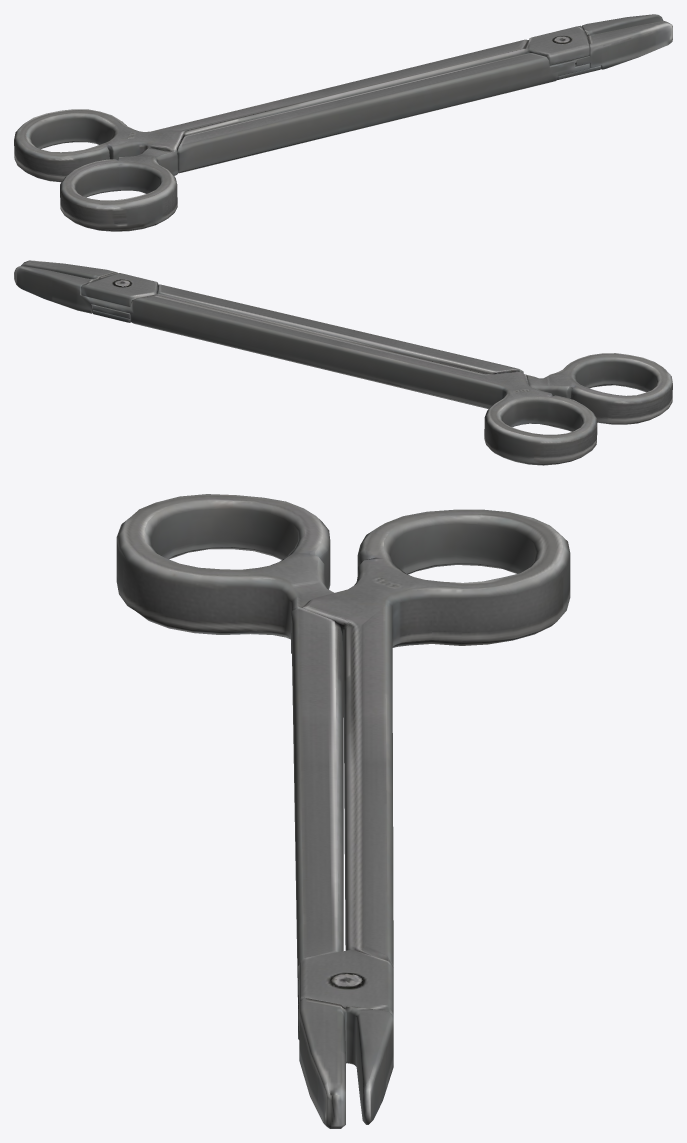
Rendered from needle_holder.glb.
3 views of the same model, one above another, from view 1: azimuth 30°, elevation 25°; view 2: azimuth 150°, elevation 25°; view 3: azimuth 270°, elevation 25° (orthographic). The views are drawn at different scales.
Parts seen in each view (by area): view 1: needle_holder; view 2: needle_holder; view 3: needle_holder.
Boxes of the visible parts, <box> form: needle_holder: <box>14,14,672,231</box>; needle_holder: <box>14,260,672,465</box>; needle_holder: <box>116,494,570,1128</box>.
Size of the model in its own units: 0.21 by 0.0101 by 0.067.
Materials: 1 (1 with a texture image).
